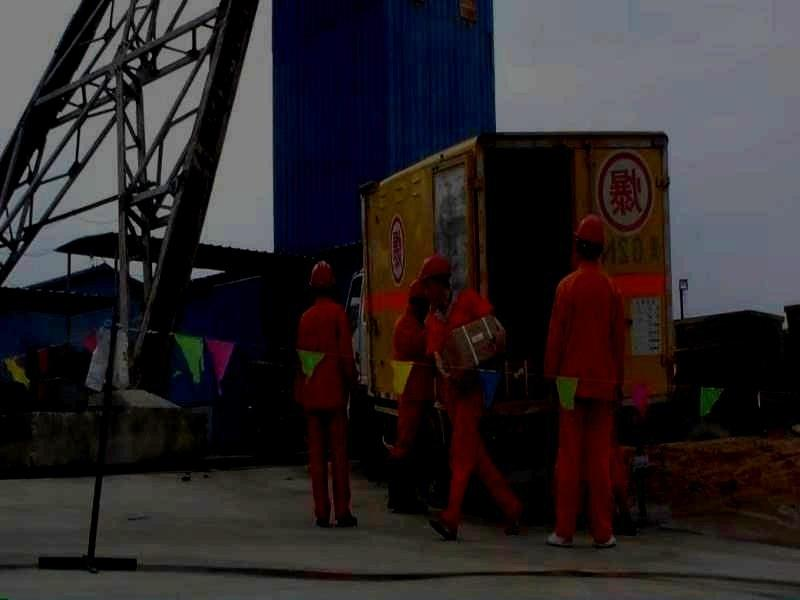helmet: (572, 212, 607, 264), (417, 253, 452, 301), (406, 279, 430, 322), (309, 260, 333, 299)
